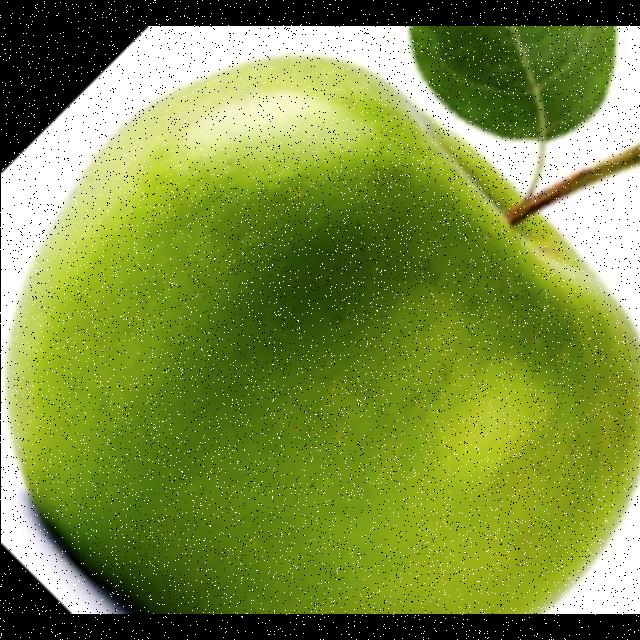Apel Segar: (0, 40, 640, 615)
